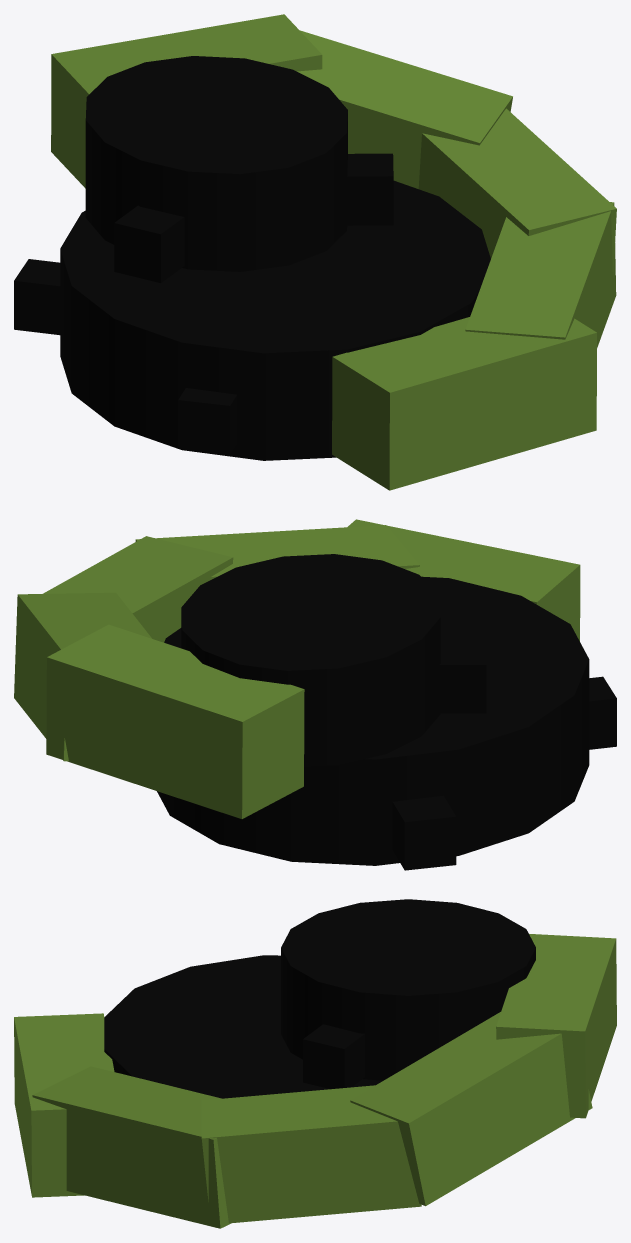
Rendered from ma_hall_vitrine_hall_reunion.max.fobj.obj.
The picture shows the model from 3 angles, top to bottom: view 1: azimuth 30°, elevation 25°; view 2: azimuth 150°, elevation 25°; view 3: azimuth 270°, elevation 25°; orthographic projection. The views are drawn at different scales.
Visible parts, largest first — view 1: initialShadingGroup cluster_hall_reunion, initialShadingGroup cluster_hall_vitrine, initialShadingGroup cluster_01_couloir_hall_vitrine, initialShadingGroup cluster04_couloir_hall_vitrine, initialShadingGroup cluster03_couloir_hall_vitrine, initialShadingGroup cluster02_couloir_hall_vitrine, initialShadingGroup cluster05_couloir_hall_vitrine, initialShadingGroup cluster_ascenseur_01_hall_vitrine, initialShadingGroup cluster_ascenseur_03_hall_reunion, initialShadingGroup cluster_ascenseur_02_hall_vitrine, initialShadingGroup cluster_ascenseur_04_hall_reunion; view 2: initialShadingGroup cluster_hall_reunion, initialShadingGroup cluster_hall_vitrine, initialShadingGroup cluster05_couloir_hall_vitrine, initialShadingGroup cluster03_couloir_hall_vitrine, initialShadingGroup cluster_01_couloir_hall_vitrine, initialShadingGroup cluster04_couloir_hall_vitrine, initialShadingGroup cluster02_couloir_hall_vitrine, initialShadingGroup cluster_ascenseur_04_hall_reunion, initialShadingGroup cluster_ascenseur_01_hall_vitrine, initialShadingGroup cluster_ascenseur_03_hall_reunion; view 3: initialShadingGroup cluster_hall_vitrine, initialShadingGroup cluster03_couloir_hall_vitrine, initialShadingGroup cluster04_couloir_hall_vitrine, initialShadingGroup cluster_hall_reunion, initialShadingGroup cluster02_couloir_hall_vitrine, initialShadingGroup cluster05_couloir_hall_vitrine, initialShadingGroup cluster_01_couloir_hall_vitrine, initialShadingGroup cluster_ascenseur_02_hall_vitrine.
Part boxes in pixels (x1=…): initialShadingGroup cluster_hall_reunion: x1=60, y1=180, x2=490, y2=460; initialShadingGroup cluster_hall_vitrine: x1=85, y1=56, x2=347, y2=271; initialShadingGroup cluster_01_couloir_hall_vitrine: x1=332, y1=317, x2=596, y2=490; initialShadingGroup cluster04_couloir_hall_vitrine: x1=297, y1=30, x2=512, y2=188; initialShadingGroup cluster03_couloir_hall_vitrine: x1=418, y1=108, x2=616, y2=277; initialShadingGroup cluster02_couloir_hall_vitrine: x1=465, y1=202, x2=616, y2=347; initialShadingGroup cluster05_couloir_hall_vitrine: x1=51, y1=14, x2=322, y2=188; initialShadingGroup cluster_ascenseur_01_hall_vitrine: x1=114, y1=205, x2=184, y2=282; initialShadingGroup cluster_ascenseur_03_hall_reunion: x1=178, y1=388, x2=237, y2=454; initialShadingGroup cluster_ascenseur_02_hall_vitrine: x1=347, y1=153, x2=393, y2=225; initialShadingGroup cluster_ascenseur_04_hall_reunion: x1=14, y1=259, x2=60, y2=335; initialShadingGroup cluster_hall_reunion: x1=157, y1=576, x2=589, y2=865; initialShadingGroup cluster_hall_vitrine: x1=181, y1=554, x2=440, y2=766; initialShadingGroup cluster05_couloir_hall_vitrine: x1=46, y1=624, x2=304, y2=818; initialShadingGroup cluster03_couloir_hall_vitrine: x1=43, y1=536, x2=233, y2=642; initialShadingGroup cluster_01_couloir_hall_vitrine: x1=347, y1=519, x2=580, y2=641; initialShadingGroup cluster04_couloir_hall_vitrine: x1=14, y1=592, x2=151, y2=761; initialShadingGroup cluster02_couloir_hall_vitrine: x1=135, y1=525, x2=419, y2=579; initialShadingGroup cluster_ascenseur_04_hall_reunion: x1=392, y1=795, x2=456, y2=870; initialShadingGroup cluster_ascenseur_01_hall_vitrine: x1=439, y1=642, x2=486, y2=713; initialShadingGroup cluster_ascenseur_03_hall_reunion: x1=589, y1=676, x2=616, y2=749; initialShadingGroup cluster_hall_vitrine: x1=281, y1=899, x2=535, y2=1080; initialShadingGroup cluster03_couloir_hall_vitrine: x1=201, y1=1085, x2=421, y2=1223; initialShadingGroup cluster04_couloir_hall_vitrine: x1=350, y1=1012, x2=592, y2=1206; initialShadingGroup cluster_hall_reunion: x1=104, y1=955, x2=382, y2=1098; initialShadingGroup cluster02_couloir_hall_vitrine: x1=32, y1=1066, x2=230, y2=1228; initialShadingGroup cluster05_couloir_hall_vitrine: x1=496, y1=934, x2=616, y2=1118; initialShadingGroup cluster_01_couloir_hall_vitrine: x1=14, y1=1013, x2=114, y2=1197; initialShadingGroup cluster_ascenseur_02_hall_vitrine: x1=303, y1=1024, x2=364, y2=1089.
Bounding box in the file's own units: 5151 × 2111 × 6314.
